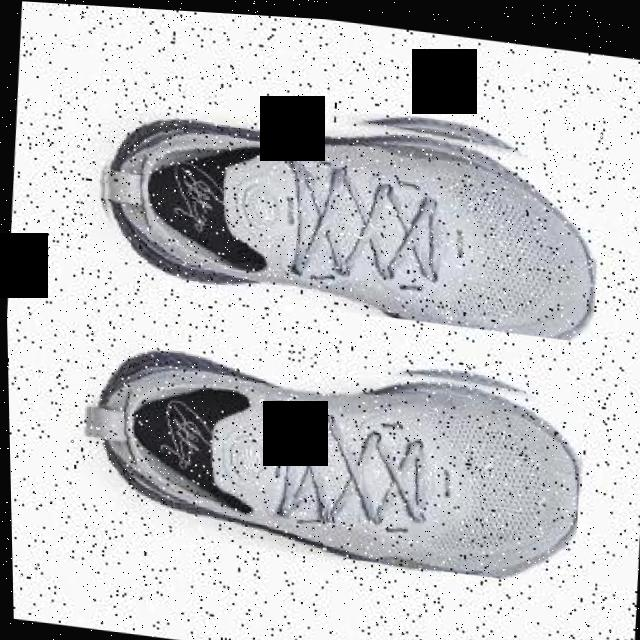shoe: (88, 71, 605, 336), (74, 318, 585, 581)
